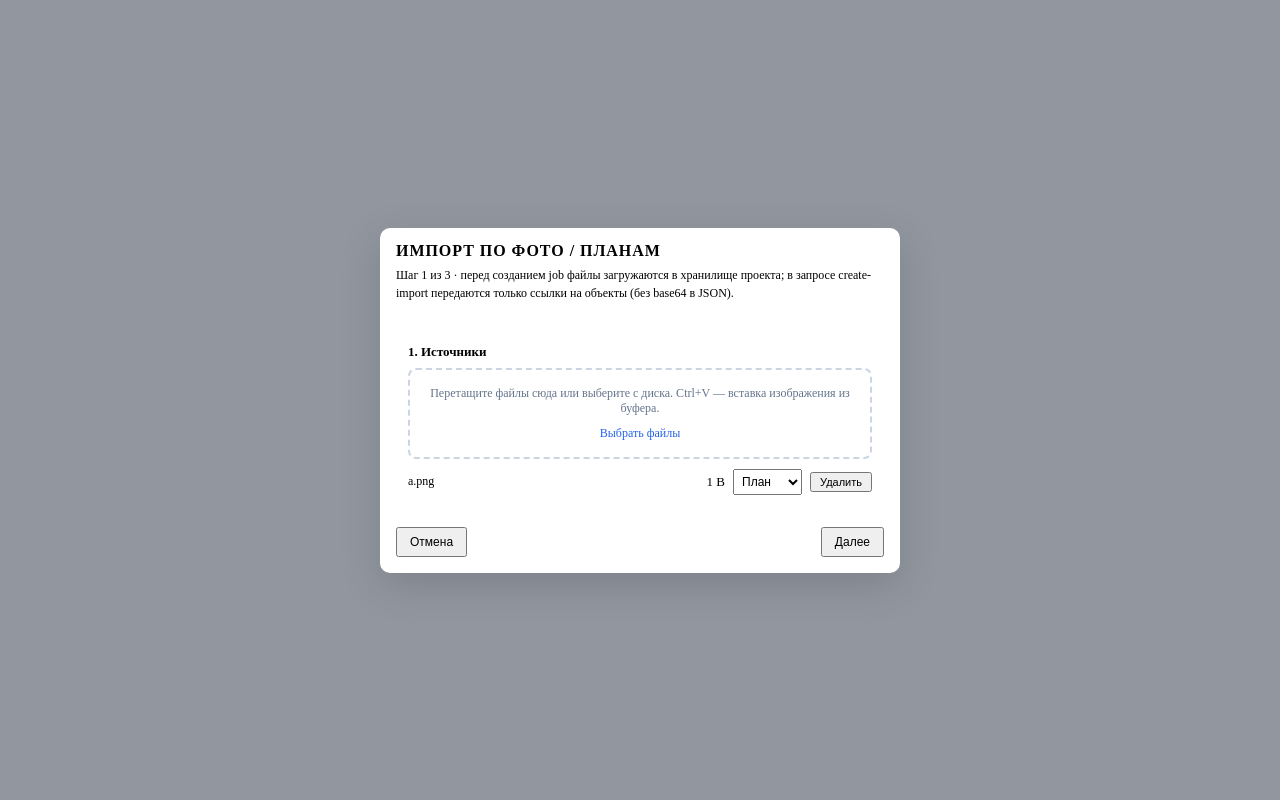
Scenario: AiImportWizardModal › shows error when upload fails and does not create import
This screenshot has width=1280, height=800.
Earlier steps of the test are not shown.
Click the button with test id "ai-import-wizard-next" at (852, 542), box [821,526,884,556]
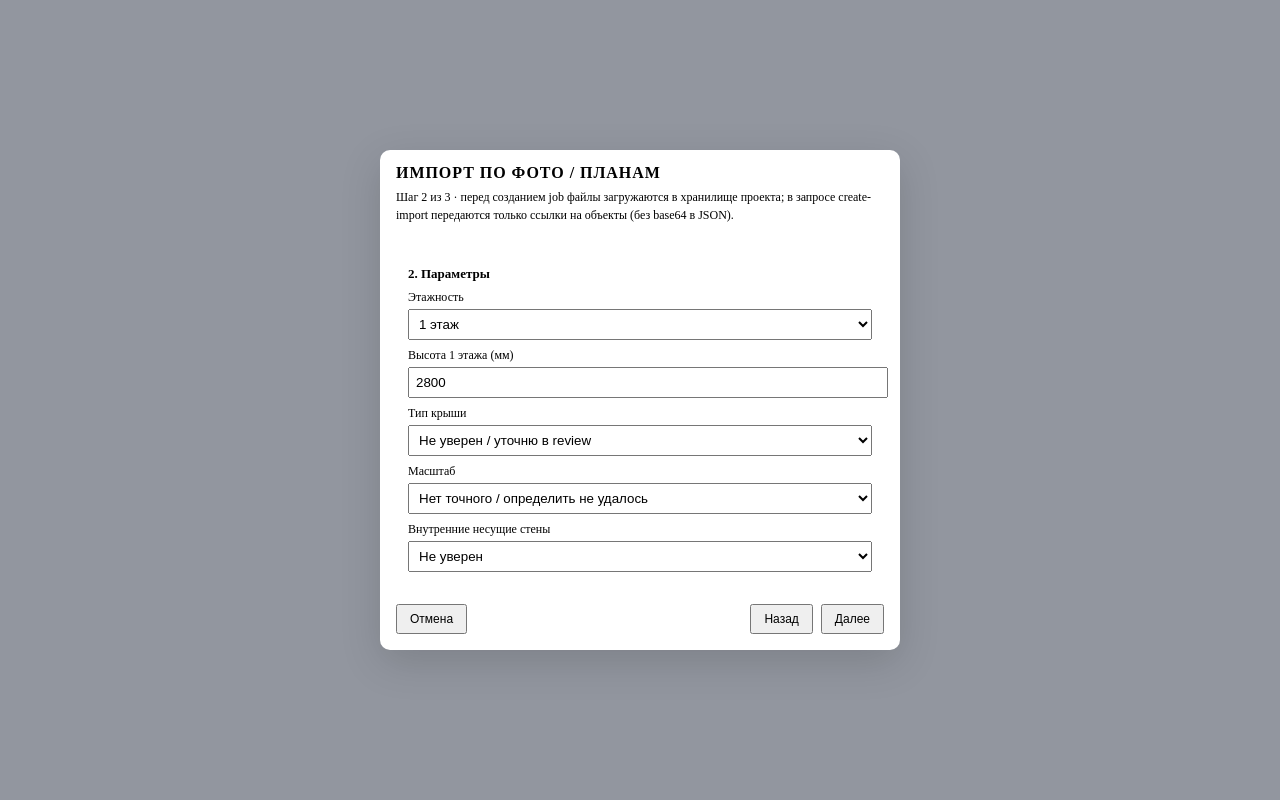
Click the button with test id "ai-import-wizard-next" at (852, 619), box [821,604,884,634]
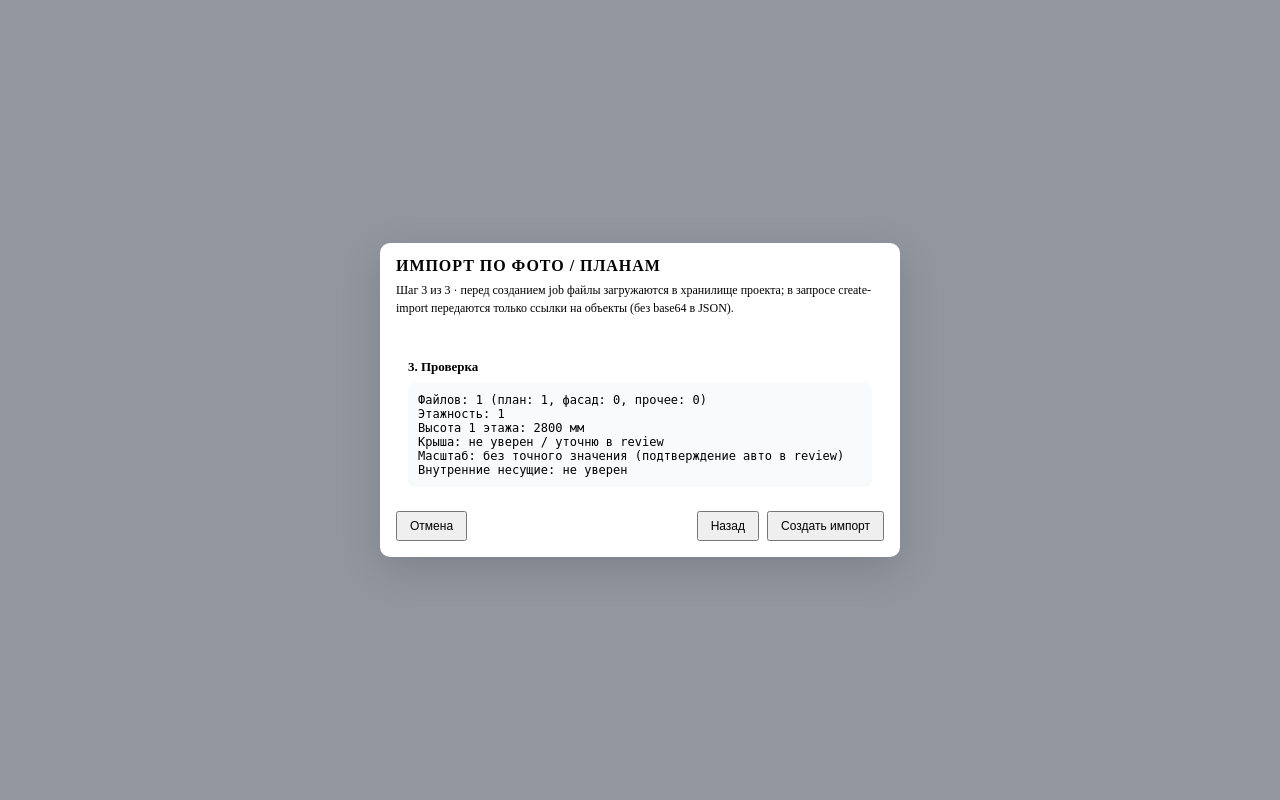
Click the button with test id "ai-import-wizard-submit" at (826, 526), box [767,511,884,541]
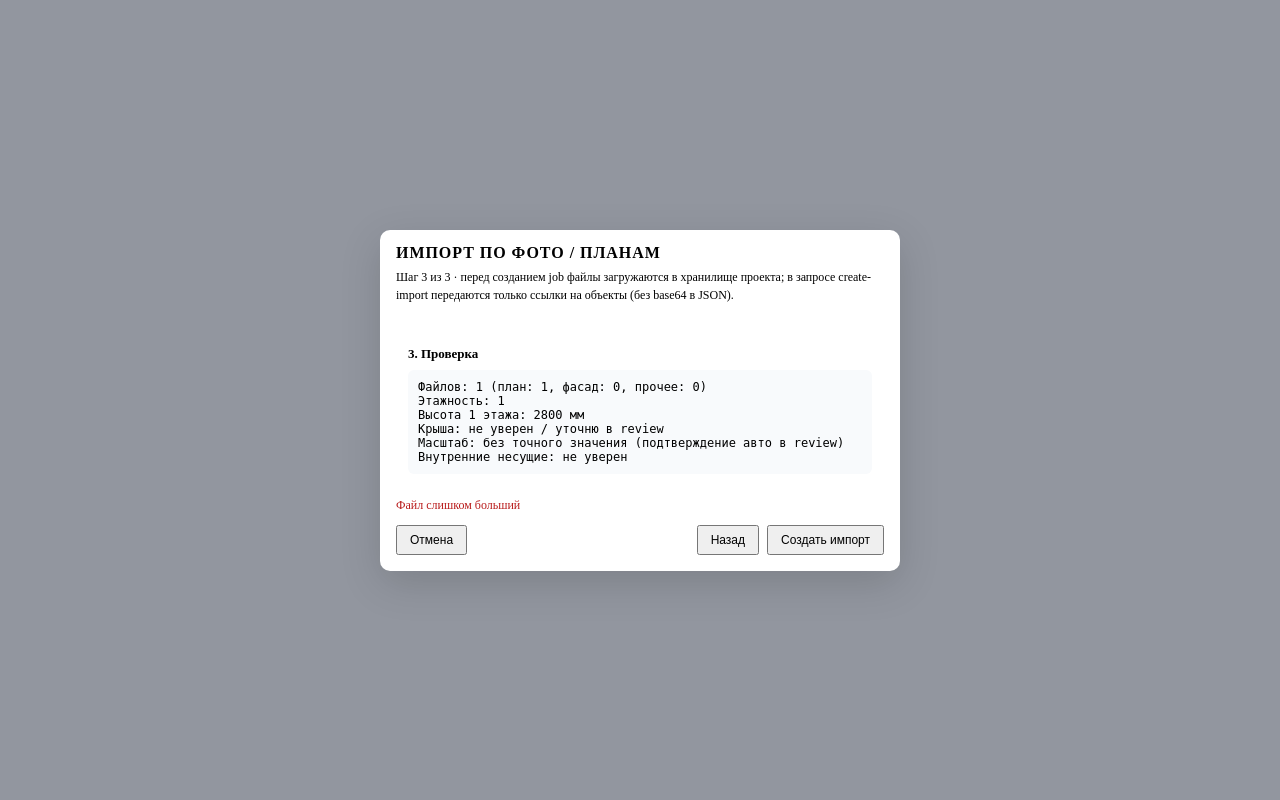
Expected: the text with test id "ai-import-wizard-error" shows "больший", [396,498,520,512]
